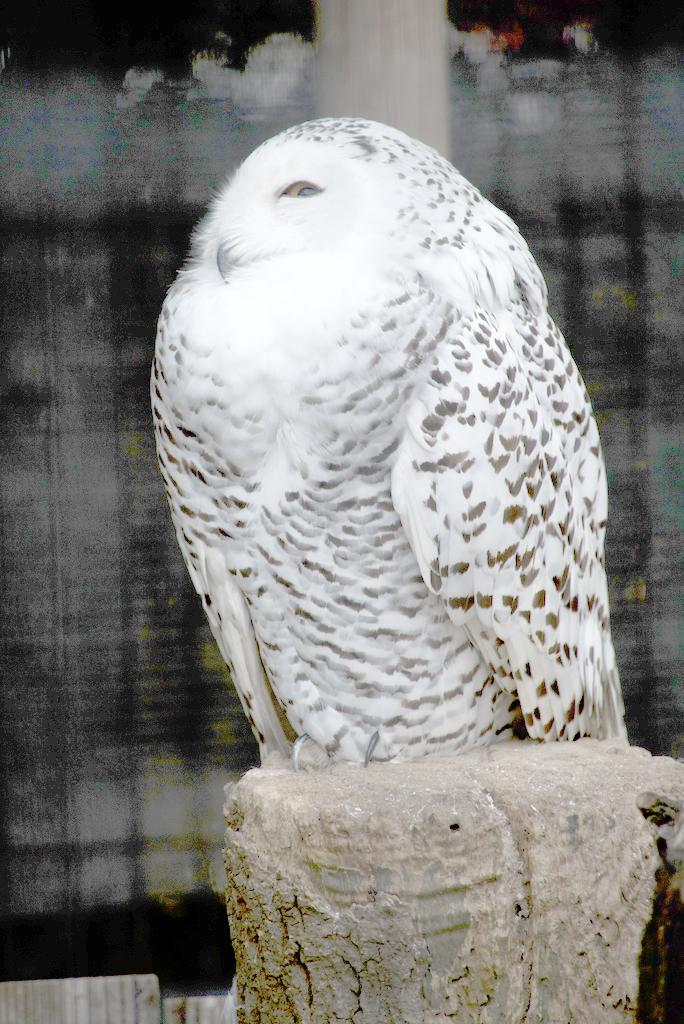Owl: (152, 126, 633, 776)
